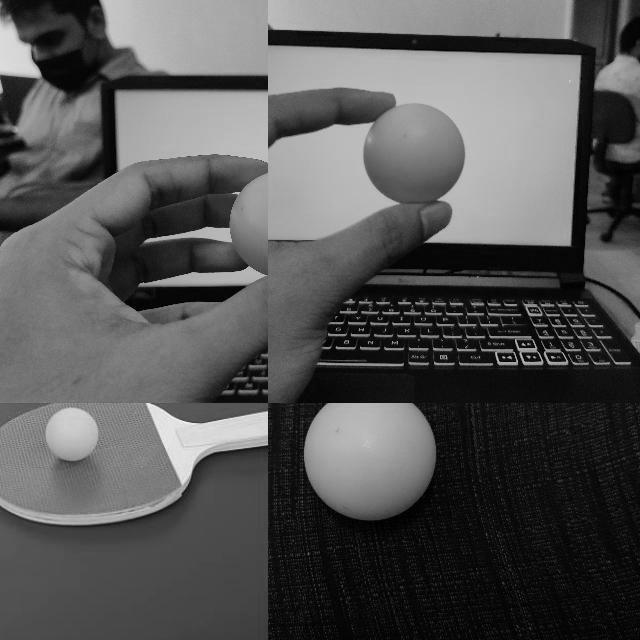ping-pong-ball: (303, 403, 437, 519), (362, 102, 463, 206), (229, 170, 267, 281), (46, 408, 98, 462)
